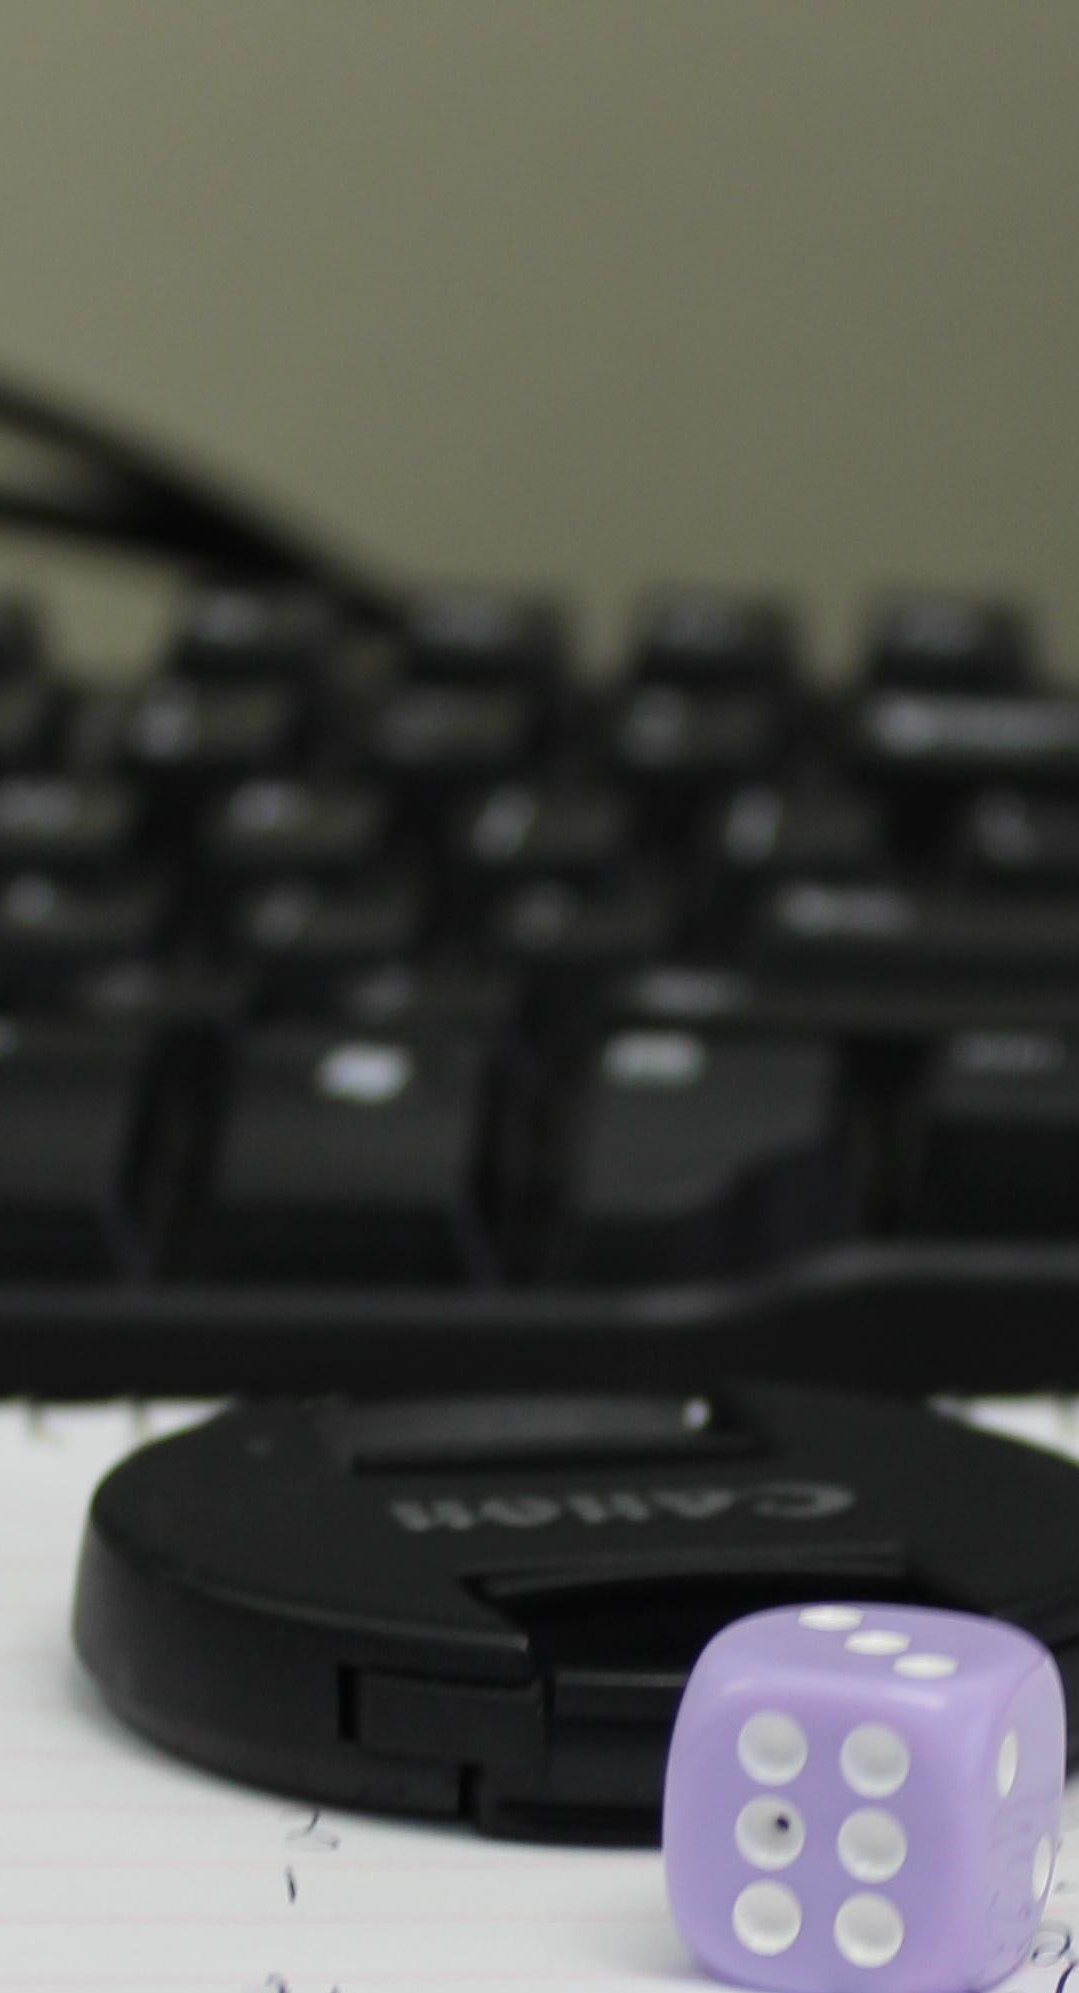lavenderDie: (599, 1541, 1076, 1993)
